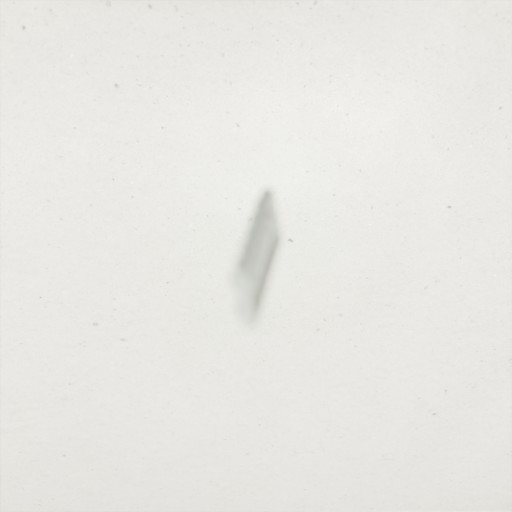lego: (229, 187, 283, 330)
